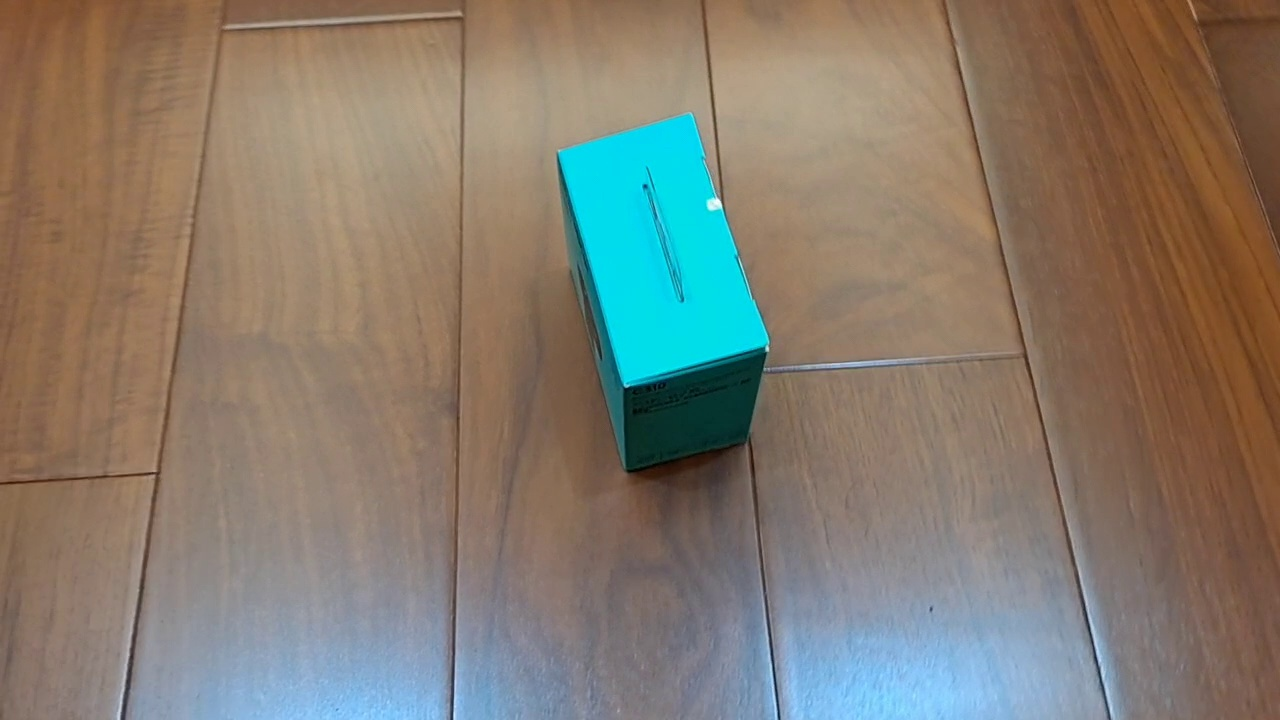webcam: (555, 110, 772, 475)
